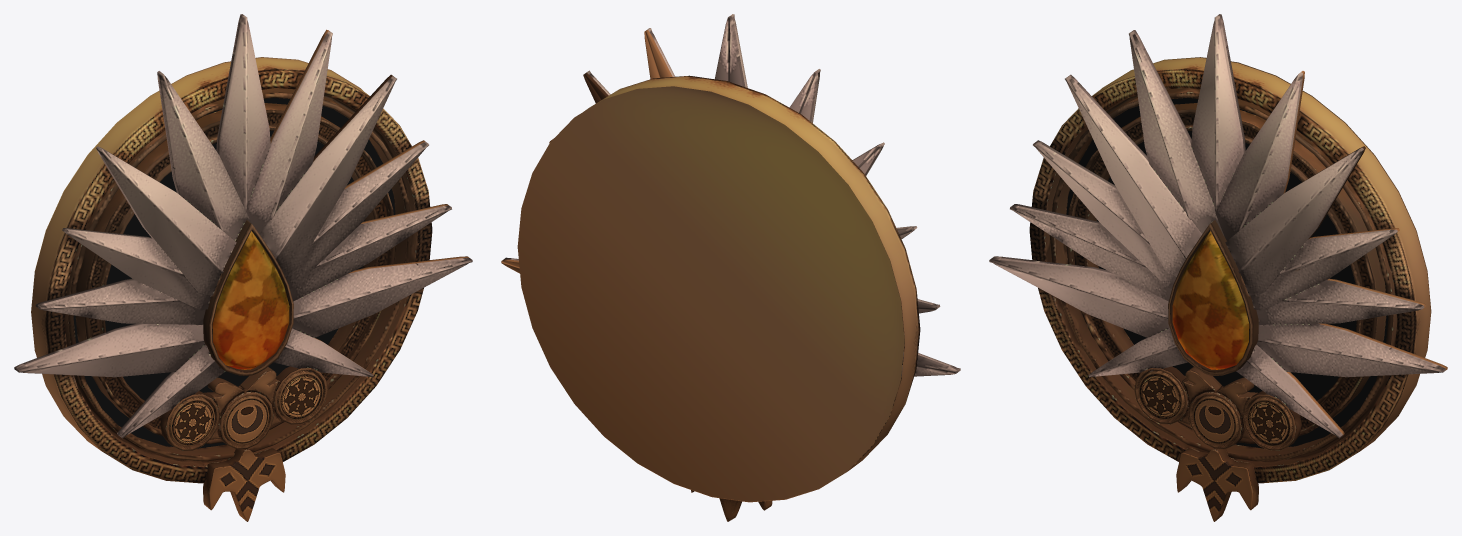
The model's file is icono.glb.
3 views of the same model, side by side, from view 1: azimuth 30°, elevation 25°; view 2: azimuth 150°, elevation 25°; view 3: azimuth 330°, elevation 25° (orthographic).
Parts seen in each view (by area): view 1: circulo; view 2: circulo; view 3: circulo.
Part boxes in pixels (x1,y1,x2,y2): circulo: [14, 14, 472, 521]; circulo: [501, 14, 960, 521]; circulo: [989, 14, 1447, 521].
Bounding box in the file's own units: 3.16 × 3.35 × 0.4147.
Materials: 1 (1 with a texture image).
